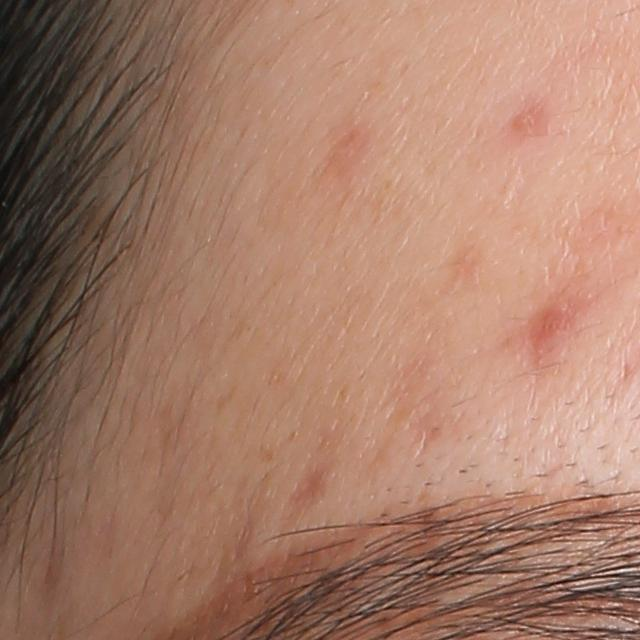papule: (530, 307, 575, 352)
